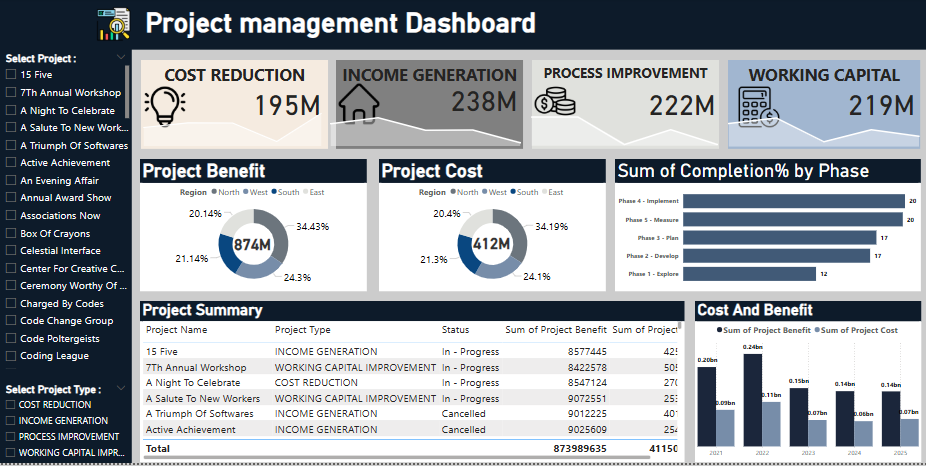

What the dashboard file says about the page in this screenshot:
{"tool":"powerbi","page":{"name":"Dashboard","canvas":[1800,900],"ordinal":0},"visuals":[{"type":"shape","box":[0,0,1800,100],"z":0},{"type":"textbox","box":[275.7,120,362,172],"z":0,"group":"g1"},{"type":"donutChart","title":"Project Benefit","fields":{"Y":["Sum(Project Management Dataset.Project Benefit)"],"Category":["Project Management Dataset.Region"]},"box":[272,312,439.5,256],"z":1000},{"type":"donutChart","title":"Project Cost","fields":{"Y":["Sum(Project Management Dataset.Project Cost)"],"Category":["Project Management Dataset.Region"]},"box":[735.8,312,439.1,255.9],"z":2000},{"type":"shape","box":[0,77.4,257.4,822.6],"z":3000},{"type":"textbox","box":[1032,120,362,172],"z":4000,"group":"g4"},{"type":"card","fields":{"Values":["Sum(Project Management Dataset.Project Benefit)"]},"box":[441.3,421.9,98.7,108.4],"z":4000},{"type":"card","fields":{"Values":["Sum(Project Management Dataset.Project Cost)"]},"box":[901.9,412.3,102.6,121.9],"z":5000},{"type":"slicer","fields":{"Values":["Project Management Dataset.Project Name"]},"box":[0,100.6,257.4,621.3],"z":6000},{"type":"slicer","fields":{"Values":["Project Management Dataset.Project Type"]},"box":[0,741.3,257.4,158.7],"z":7000},{"type":"textbox","box":[1412,120,372,172],"z":8000,"group":"g5"},{"type":"clusteredBarChart","fields":{"Y":["Sum(Project Management Dataset.Completion%)"],"Category":["Project Management Dataset.Phase"]},"box":[1192,312,592,256],"z":8000},{"type":"tableEx","title":"Project Summary","fields":{"Values":["Project Management Dataset.Project Name","Project Management Dataset.Project Type","Project Management Dataset.Status","Sum(Project Management Dataset.Project Benefit)","Sum(Project Management Dataset.Project Cost)"]},"box":[272,586,1054,312],"z":9000},{"type":"textbox","box":[652,120,362,172],"z":10000,"group":"g3"},{"type":"clusteredColumnChart","title":"Cost And Benefit ","fields":{"Y":["Sum(Project Management Dataset.Project Benefit)","Sum(Project Management Dataset.Project Cost)"],"Category":["Project Management Dataset.Start Date.Variation.Date Hierarchy.Year"]},"box":[1346.7,586.7,438.3,311.7],"z":10000},{"type":"image","box":[164.5,11.6,114.2,77.4],"z":11000},{"type":"group","id":"g1","title":"Group 1","box":[265.2,120,373.5,172.6],"z":11000,"group":"g2"},{"type":"group","id":"g2","title":"Group 5","box":[265.2,120,1531.5,172.6],"z":12000},{"type":"group","id":"g3","title":"Group 2","box":[626.9,120,396.8,172.4],"z":12000,"group":"g2"},{"type":"card","fields":{"Values":["Dax.Measure"]},"box":[475.7,152,162,94],"z":12000,"group":"g1"},{"type":"textbox","box":[278.7,11.6,998.7,77.4],"z":13000},{"type":"group","id":"g4","title":"Group 3","box":[1016.2,120,389.4,172],"z":13000,"group":"g2"},{"type":"group","id":"g5","title":"Group 4","box":[1398.1,120,398.7,172.4],"z":14000,"group":"g2"},{"type":"card","fields":{"Values":["Dax.INCOME GENERATION"]},"box":[863.2,147.1,151,92.9],"z":14000,"group":"g3"},{"type":"card","fields":{"Values":["Dax.PROCESS IMPROVEMENT"]},"box":[1246.4,154.8,151,91],"z":15000,"group":"g4"},{"type":"card","fields":{"Values":["Dax.WORKING CAPITAL"]},"box":[1631.6,154.8,152.9,91],"z":17000,"group":"g5"},{"type":"image","box":[652.2,160.6,89,89],"z":22000,"group":"g3"},{"type":"image","box":[276.6,166.5,89,89],"z":23000,"group":"g1"},{"type":"image","box":[1031.6,154.8,89,89],"z":24000,"group":"g4"},{"type":"image","box":[1426.5,166.5,89,89],"z":25000,"group":"g5"},{"type":"areaChart","fields":{"Category":["Project Management Dataset.Start Date.Variation.Date Hierarchy.Year"],"Y":["Dax.WORKING CAPITAL"]},"box":[1398.1,193.3,398.7,99.1],"z":26000,"group":"g5"},{"type":"areaChart","fields":{"Y":["Dax.PROCESS IMPROVEMENT"],"Category":["Project Management Dataset.Start Date.Variation.Date Hierarchy.Year"]},"box":[1016.2,211.8,389.4,80],"z":26500,"group":"g4"},{"type":"stackedAreaChart","fields":{"Category":["Project Management Dataset.Start Date.Variation.Date Hierarchy.Year"],"Y":["Dax.INCOME GENERATION"]},"box":[626.9,216.8,396.8,75.6],"z":27000,"group":"g3"},{"type":"areaChart","fields":{"Category":["Project Management Dataset.Start Date.Variation.Date Hierarchy.Year"],"Y":["Dax.COST REDUCTION"]},"box":[265.2,191.9,373.5,100.6],"z":27500,"group":"g1"}]}

Visuals, with their boxes in screenshot pixels (x1, y1, x2, y2), scaled from the page's 1800x900 canvas onto the 926x466 screenshot:
shape: bbox(0, 0, 925, 52)
textbox: bbox(142, 62, 328, 151)
"Project Benefit" donutChart: bbox(140, 162, 366, 294)
"Project Cost" donutChart: bbox(379, 162, 604, 294)
shape: bbox(0, 40, 132, 465)
textbox: bbox(531, 62, 717, 151)
card - Sum(Project Management Dataset.Project Benefit): bbox(227, 218, 278, 275)
card - Sum(Project Management Dataset.Project Cost): bbox(464, 213, 517, 277)
slicer - Project Management Dataset.Project Name: bbox(0, 52, 132, 374)
slicer - Project Management Dataset.Project Type: bbox(0, 384, 132, 465)
textbox: bbox(726, 62, 918, 151)
clusteredBarChart - Sum(Project Management Dataset.Completion%) x Project Management Dataset.Phase: bbox(613, 162, 918, 294)
"Project Summary" tableEx: bbox(140, 303, 682, 465)
textbox: bbox(335, 62, 522, 151)
"Cost And Benefit " clusteredColumnChart: bbox(693, 304, 918, 465)
image: bbox(85, 6, 143, 46)
"Group 1" group: bbox(136, 62, 329, 152)
"Group 5" group: bbox(136, 62, 924, 152)
"Group 2" group: bbox(323, 62, 527, 151)
card - Dax.Measure: bbox(245, 79, 328, 127)
textbox: bbox(143, 6, 657, 46)
"Group 3" group: bbox(523, 62, 723, 151)
"Group 4" group: bbox(719, 62, 924, 151)
card - Dax.INCOME GENERATION: bbox(444, 76, 522, 124)
card - Dax.PROCESS IMPROVEMENT: bbox(641, 80, 719, 127)
card - Dax.WORKING CAPITAL: bbox(839, 80, 918, 127)
image: bbox(336, 83, 381, 129)
image: bbox(142, 86, 188, 132)
image: bbox(531, 80, 576, 126)
image: bbox(734, 86, 780, 132)
areaChart - Project Management Dataset.Start Date.Variation.Date Hierarchy.Year x Dax.WORKING CAPITAL: bbox(719, 100, 924, 151)
areaChart - Dax.PROCESS IMPROVEMENT x Project Management Dataset.Start Date.Variation.Date Hierarchy.Year: bbox(523, 110, 723, 151)
stackedAreaChart - Project Management Dataset.Start Date.Variation.Date Hierarchy.Year x Dax.INCOME GENERATION: bbox(323, 112, 527, 151)
areaChart - Project Management Dataset.Start Date.Variation.Date Hierarchy.Year x Dax.COST REDUCTION: bbox(136, 99, 329, 151)
